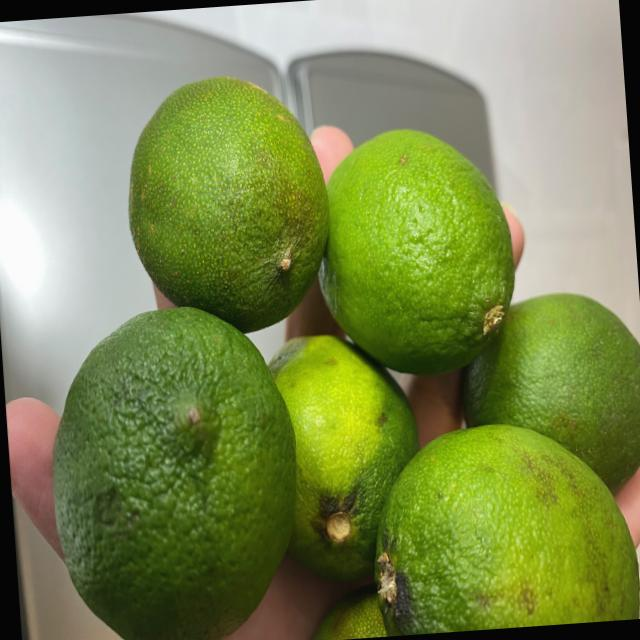lemon: (23, 38, 640, 640)
